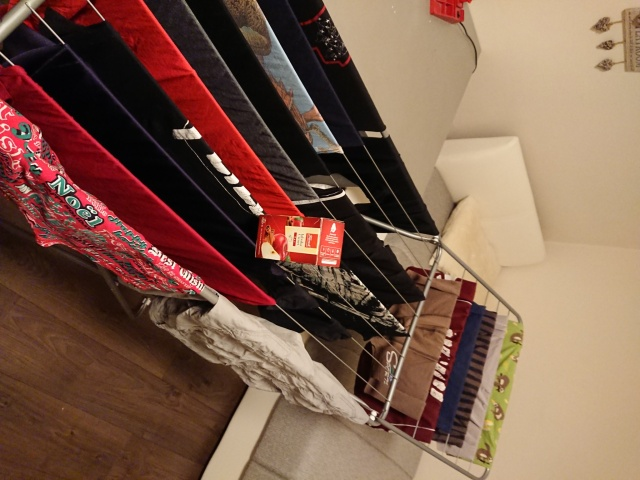Franck Apple Cinnamon Tea 60g: (252, 212, 348, 270)
